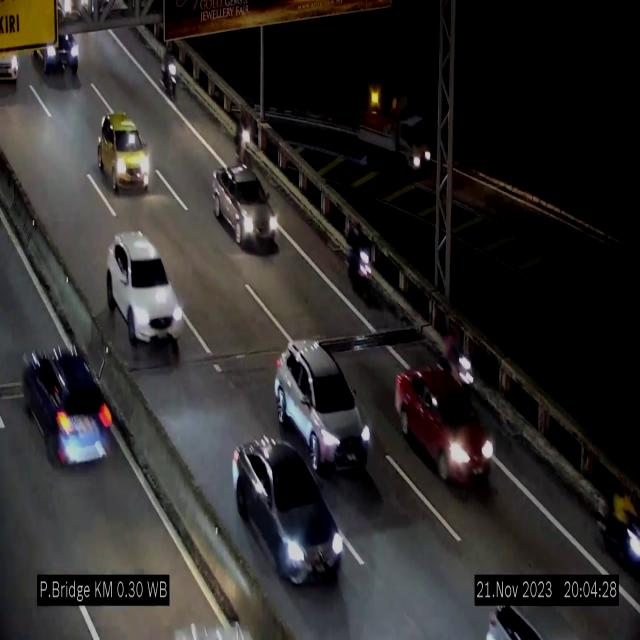Car: (232, 439, 344, 583), (18, 334, 114, 478), (274, 340, 372, 473), (395, 369, 495, 490), (107, 232, 181, 351), (212, 164, 278, 250), (97, 112, 151, 192), (33, 1, 87, 79)
Motorcycle: (594, 479, 640, 574), (345, 217, 375, 307), (443, 322, 475, 394), (228, 108, 256, 168), (159, 33, 179, 106)
Truck: (359, 64, 437, 183)
